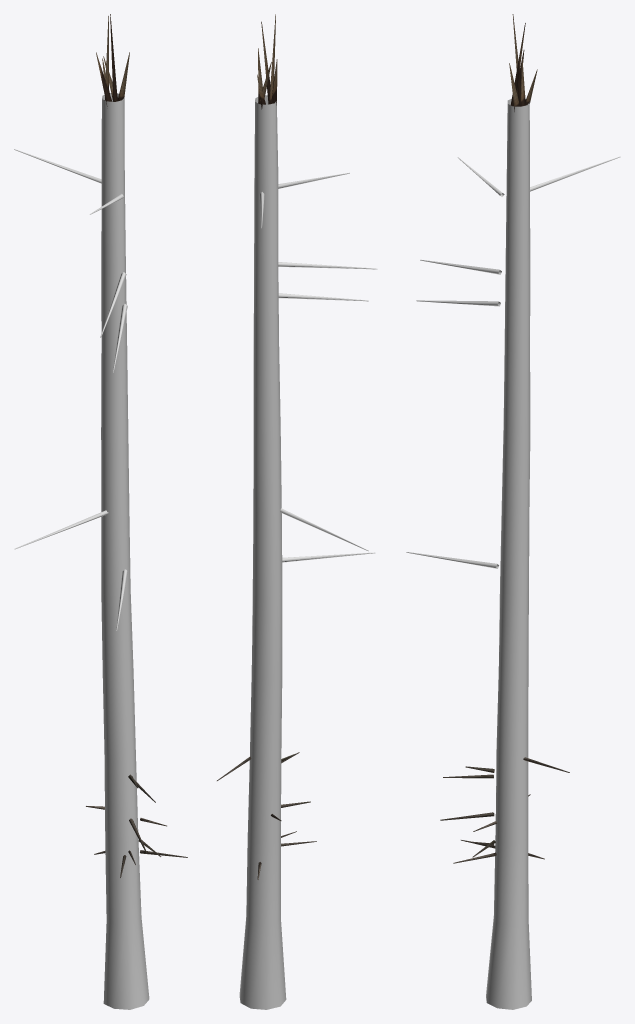
The model's file is S7U_Spruce_Burnt.fbx.
The picture shows the model from 3 angles, left to right: view 1: azimuth 30°, elevation 25°; view 2: azimuth 150°, elevation 25°; view 3: azimuth 270°, elevation 25°; orthographic projection.
Parts seen in each view (by area): view 1: S7U_Spruce_Burnt; view 2: S7U_Spruce_Burnt; view 3: S7U_Spruce_Burnt.
Boxes of the visible parts, bbox=[...] form: S7U_Spruce_Burnt: bbox=[14, 14, 187, 1009]; S7U_Spruce_Burnt: bbox=[217, 14, 377, 1009]; S7U_Spruce_Burnt: bbox=[406, 14, 620, 1009].
Size of the model in its own units: 2.06 by 13.58 by 2.69.
